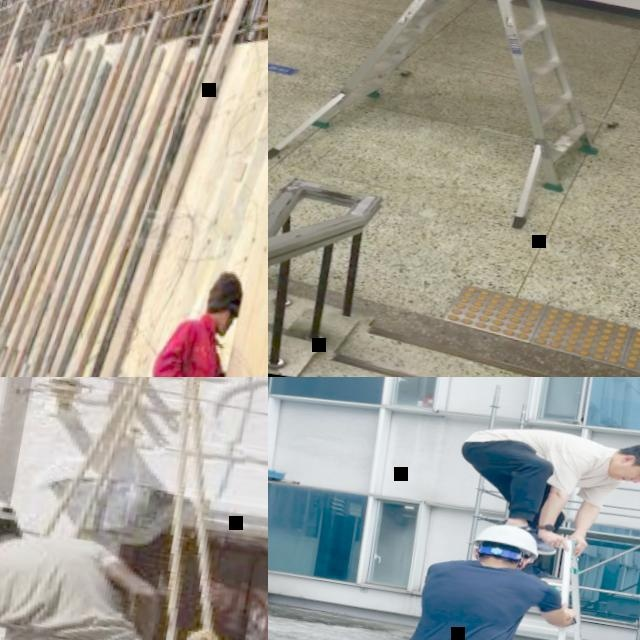Hardhat: (468, 519, 544, 559), (0, 487, 31, 542)
NO-Hardhat: (207, 267, 250, 323), (629, 443, 640, 481)
NO-Mask: (211, 314, 234, 339), (609, 462, 635, 484)
NO-Safety Vest: (0, 528, 165, 640), (409, 551, 550, 640), (469, 418, 617, 489), (144, 321, 231, 377)
Person: (0, 480, 268, 640), (445, 414, 640, 573), (378, 511, 593, 640), (132, 256, 253, 377)
